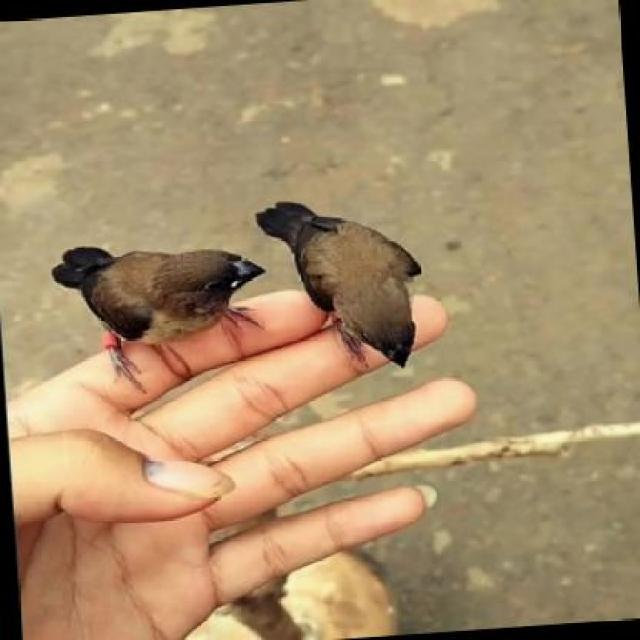Bird: (23, 193, 253, 379), (257, 191, 448, 374)
